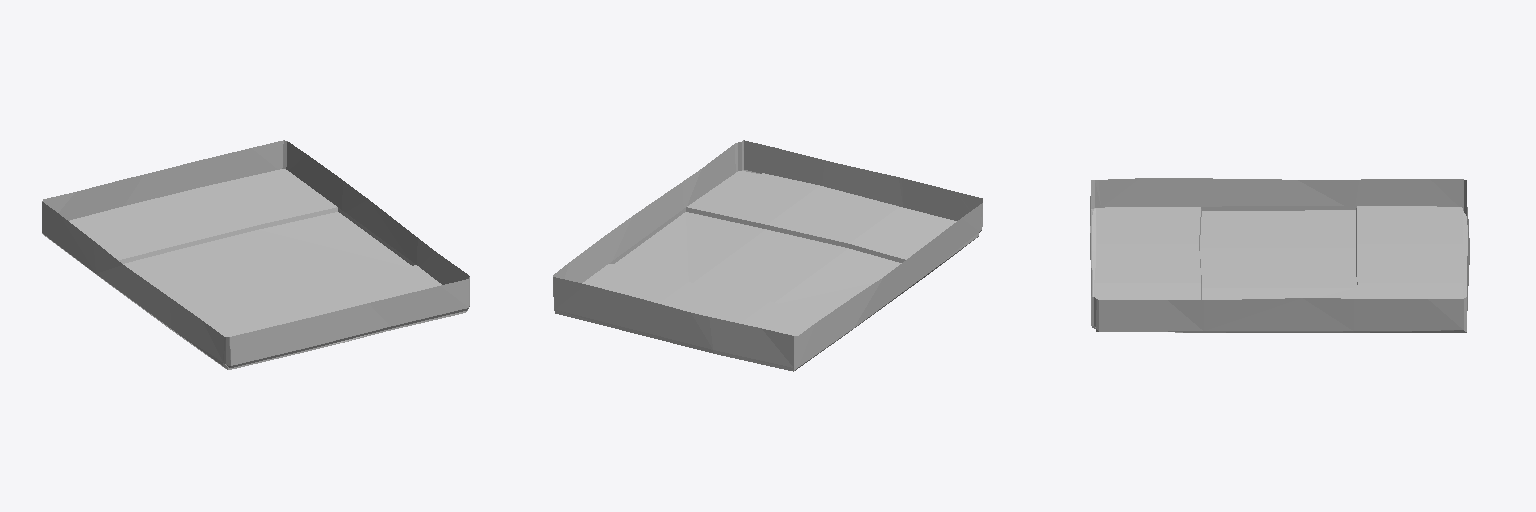
Rendered from BoxBottom.obj.
3 renders of one model, left to right at view 1: azimuth 30°, elevation 25°; view 2: azimuth 150°, elevation 25°; view 3: azimuth 270°, elevation 25°, orthographic.
Parts seen in each view (by area): view 1: BOX; view 2: BOX; view 3: BOX.
Boxes of the visible parts, <box> form: BOX: <box>42,140,469,369</box>; BOX: <box>553,140,982,371</box>; BOX: <box>1090,178,1469,332</box>.
Bounding box in the file's own units: 0.306 × 0.043 × 0.4047.